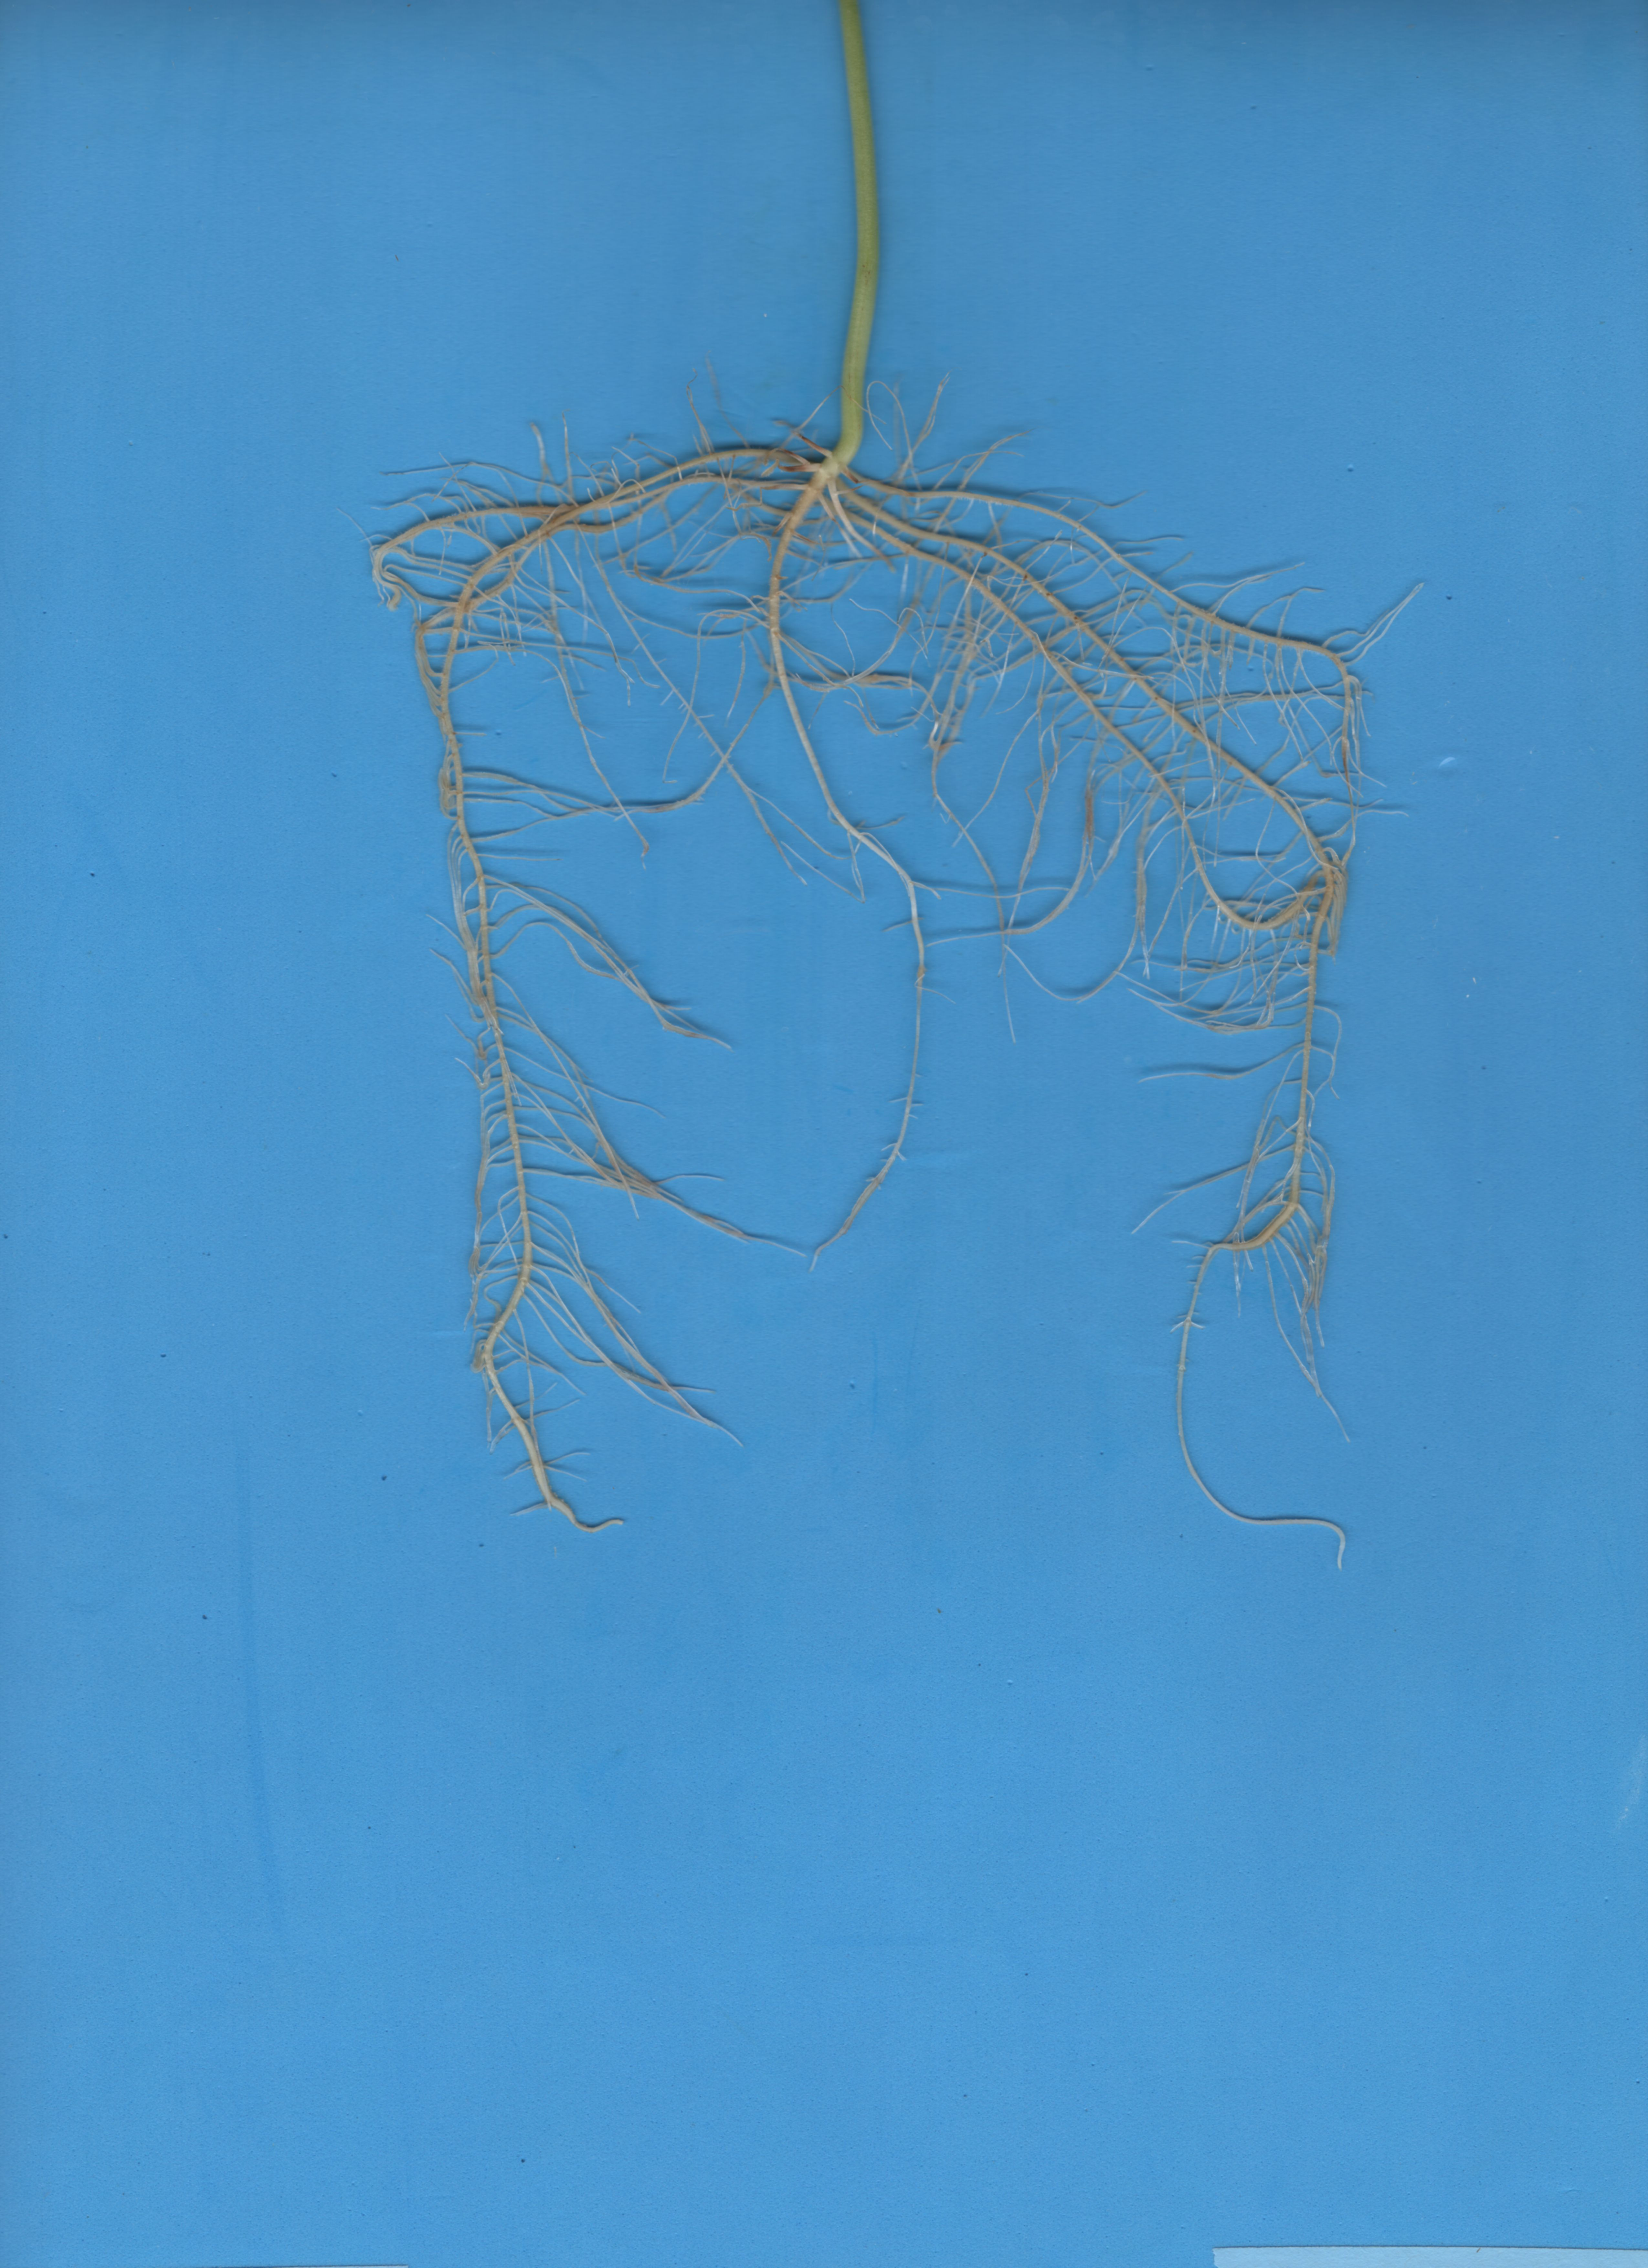CROWNGOOD: (778, 11, 947, 481)
ROOTGOOD: (201, 403, 1549, 1620)
